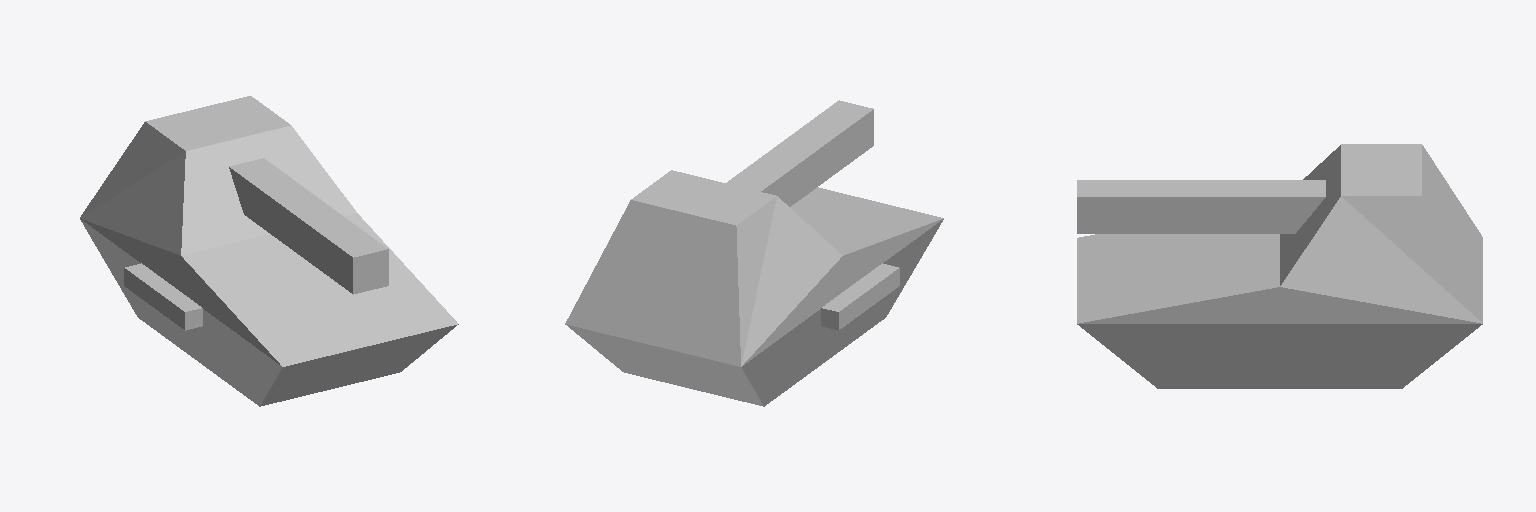
File: heavytank.obj
3 views of the same model, side by side, from view 1: azimuth 30°, elevation 25°; view 2: azimuth 150°, elevation 25°; view 3: azimuth 270°, elevation 25° (orthographic).
Parts seen in each view (by area): view 1: Cube; view 2: Cube; view 3: Cube.
Boxes of the visible parts, <box> form: Cube: <box>80,96,458,406</box>; Cube: <box>565,100,943,406</box>; Cube: <box>1077,144,1482,388</box>.
Size of the model in its own units: 1.15 by 1 by 2.